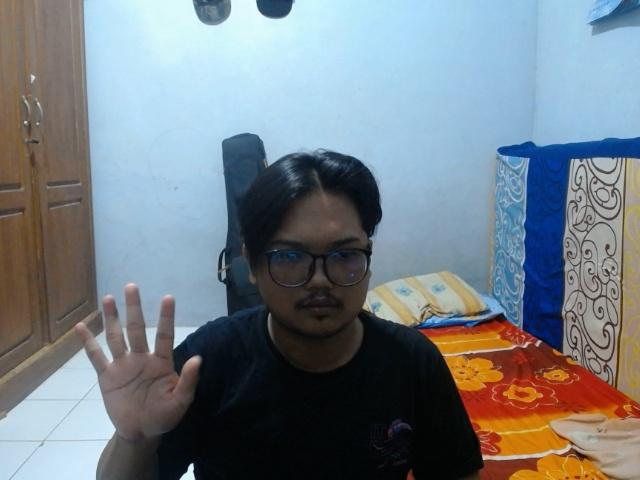Release: (71, 278, 204, 448)
